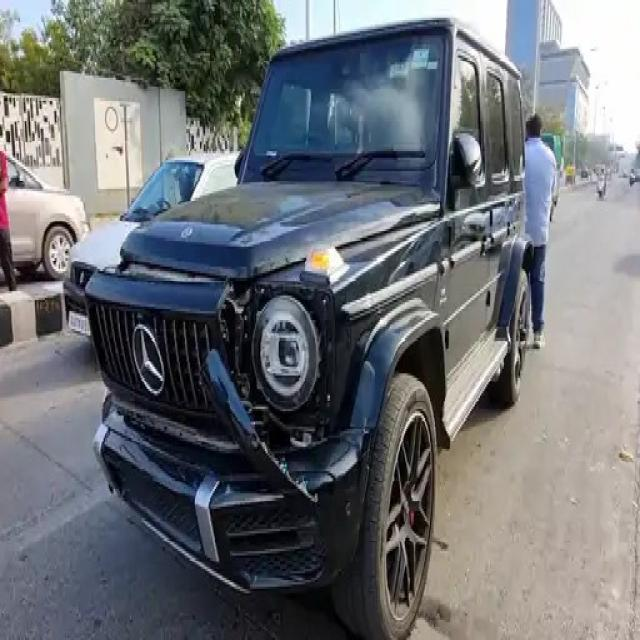accident: (88, 20, 529, 637)
